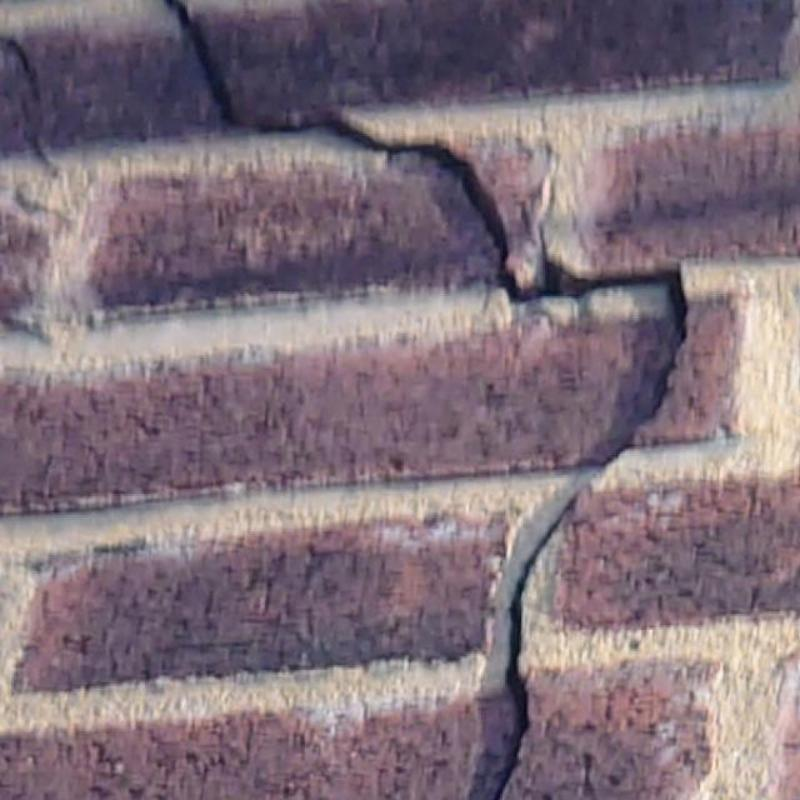pothole: (165, 0, 686, 465), (492, 498, 574, 799)
